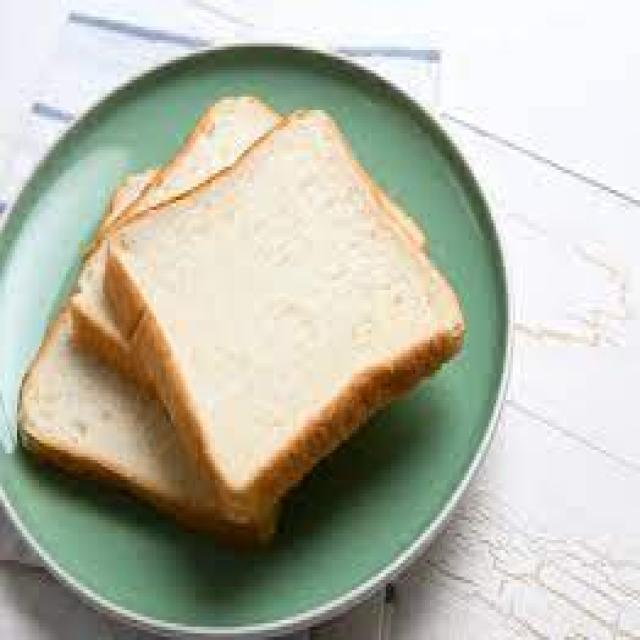Bread: (113, 111, 464, 535), (19, 305, 229, 530), (135, 97, 281, 216)
